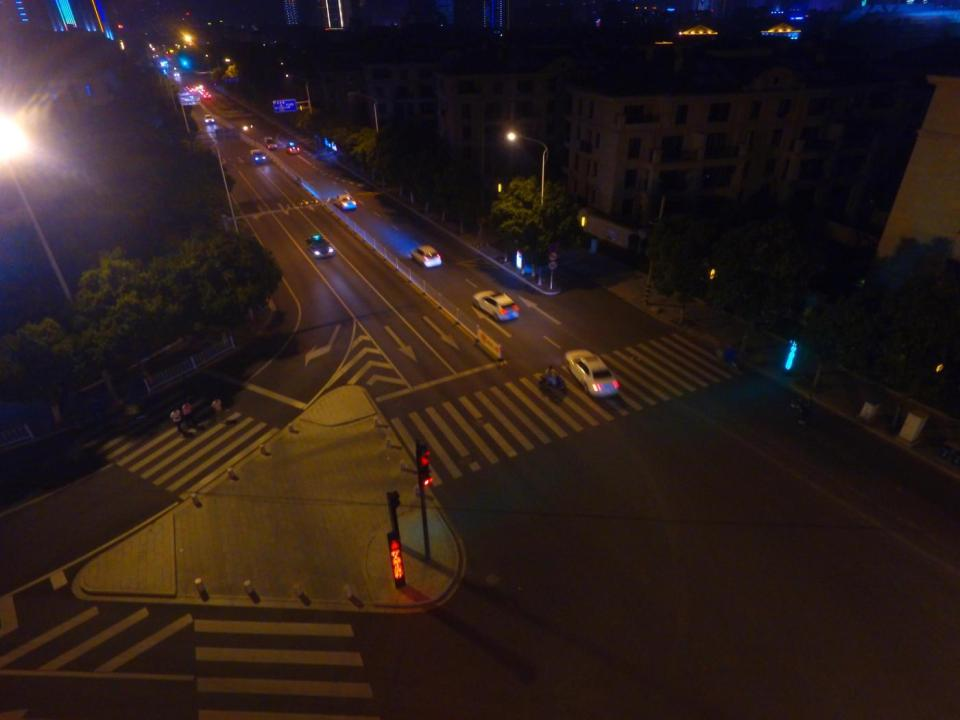car: (564, 346, 620, 400), (474, 292, 521, 322), (306, 235, 335, 259), (410, 246, 441, 268), (249, 148, 268, 165), (336, 194, 357, 209), (262, 137, 278, 150), (287, 143, 300, 155), (206, 114, 214, 125)
